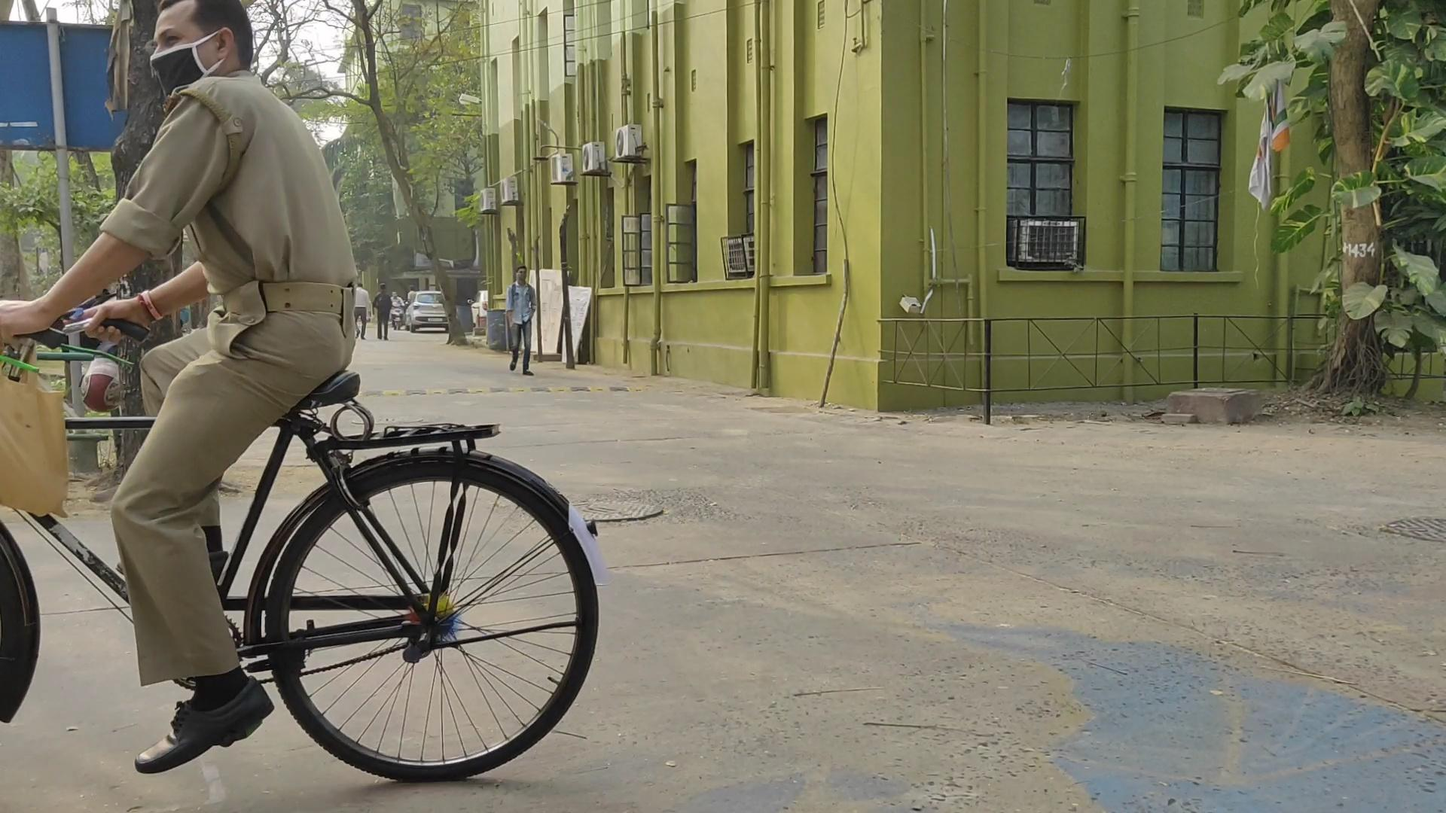bike: (5, 2, 606, 788), (389, 290, 408, 330)
car: (404, 290, 450, 334)
